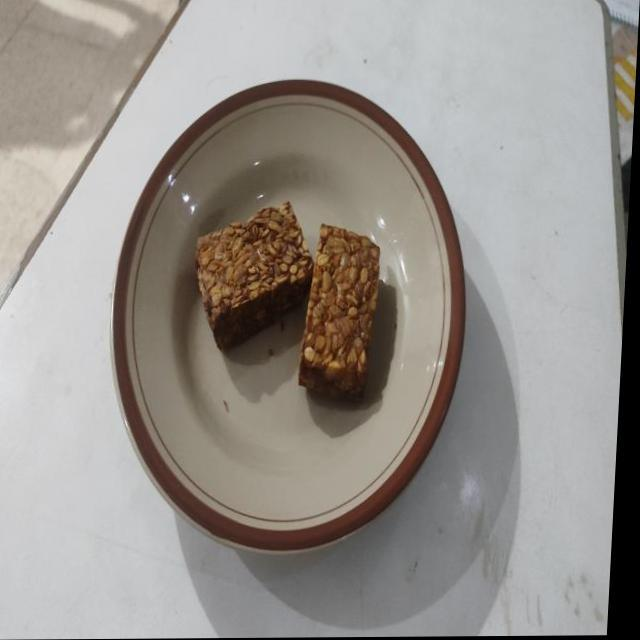tempe_goreng: (195, 202, 313, 349), (298, 224, 379, 399)
